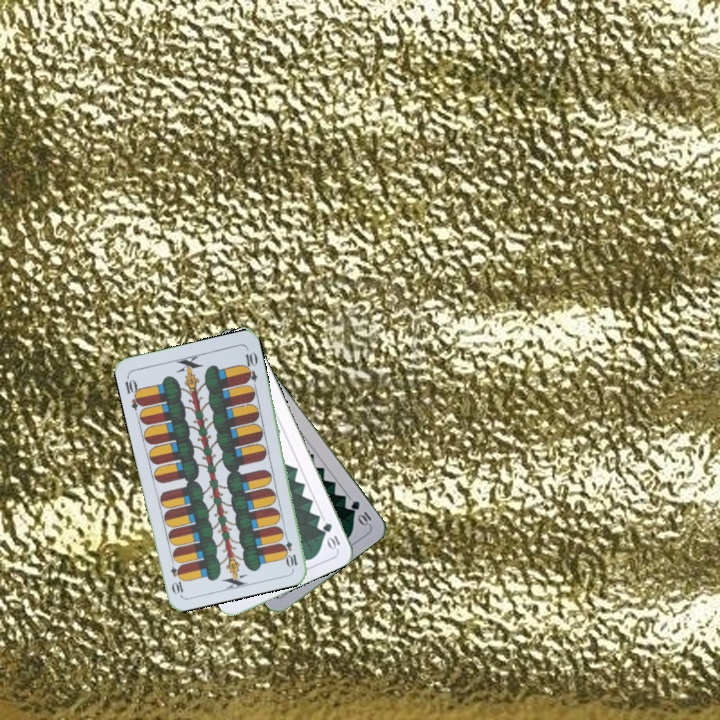E10: (121, 372, 146, 412), (279, 529, 300, 569)
G10: (347, 496, 374, 528), (319, 519, 343, 552)
